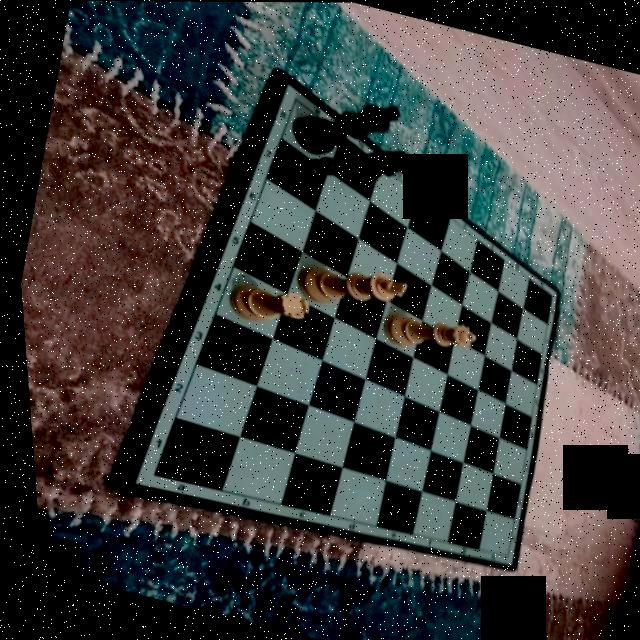chess-table-corners: (130, 456, 163, 487), (484, 538, 514, 566), (535, 283, 560, 307), (282, 85, 306, 108)
